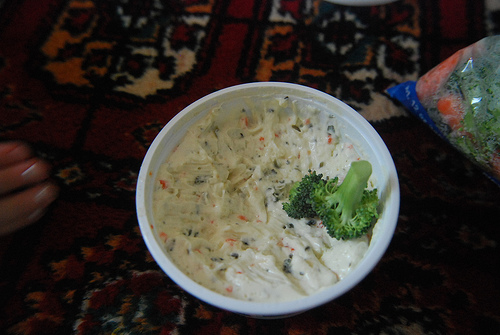broccoli: (287, 157, 382, 246)
